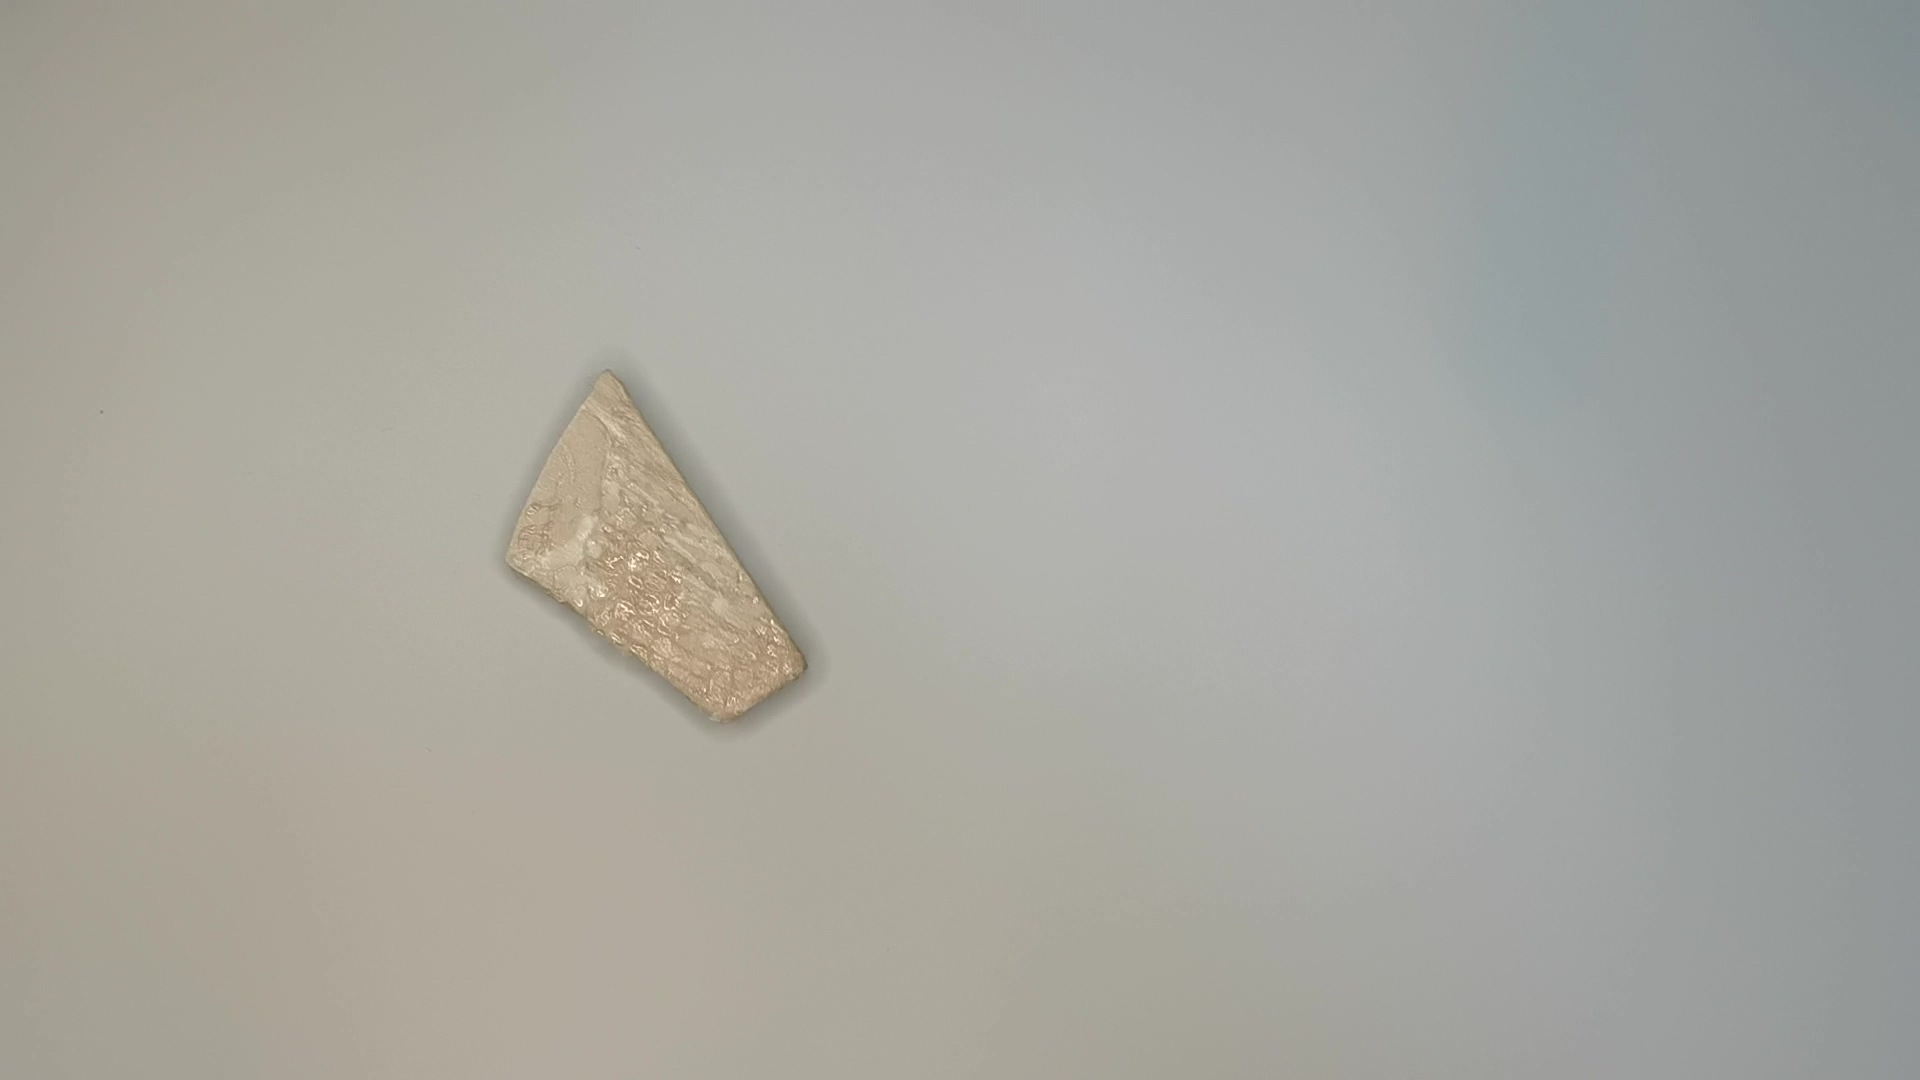ceramic: (495, 357, 811, 735)
